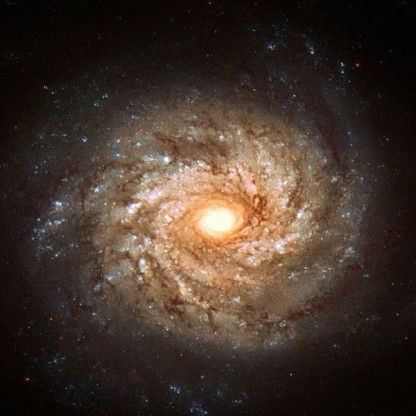NGC 3982: (37, 73, 385, 355)
